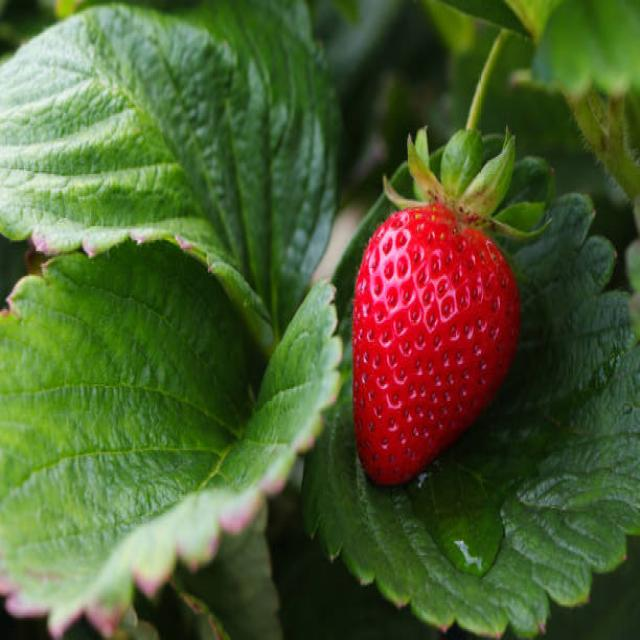Healthy Fruit: (353, 203, 520, 482)
